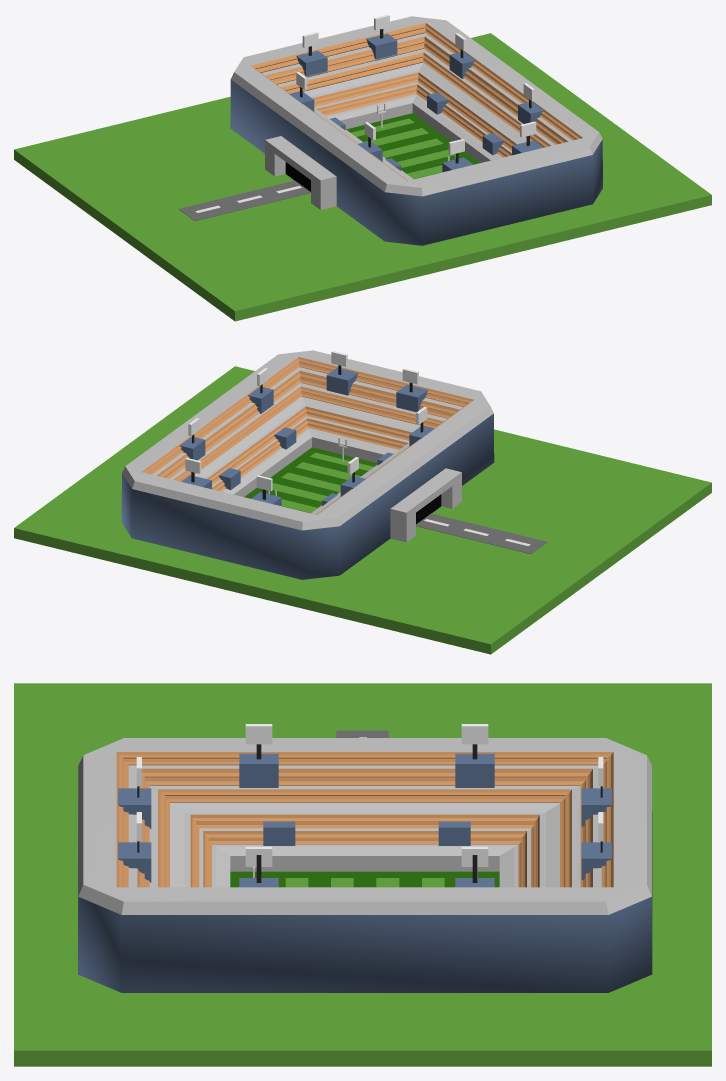
The model's file is football-stadium.glb.
The picture shows the model from 3 angles, top to bottom: view 1: azimuth 30°, elevation 25°; view 2: azimuth 150°, elevation 25°; view 3: azimuth 270°, elevation 25°; orthographic projection. The views are drawn at different scales.
Parts seen in each view (by area): view 1: Box007; view 2: Box007; view 3: Box007.
Boxes of the visible parts, left/top/right/bottom form: Box007: left=14, top=14, right=711, bottom=321; Box007: left=14, top=350, right=711, bottom=654; Box007: left=14, top=683, right=711, bottom=1066.
Size of the model in its own units: 214 by 37.53 by 172.
